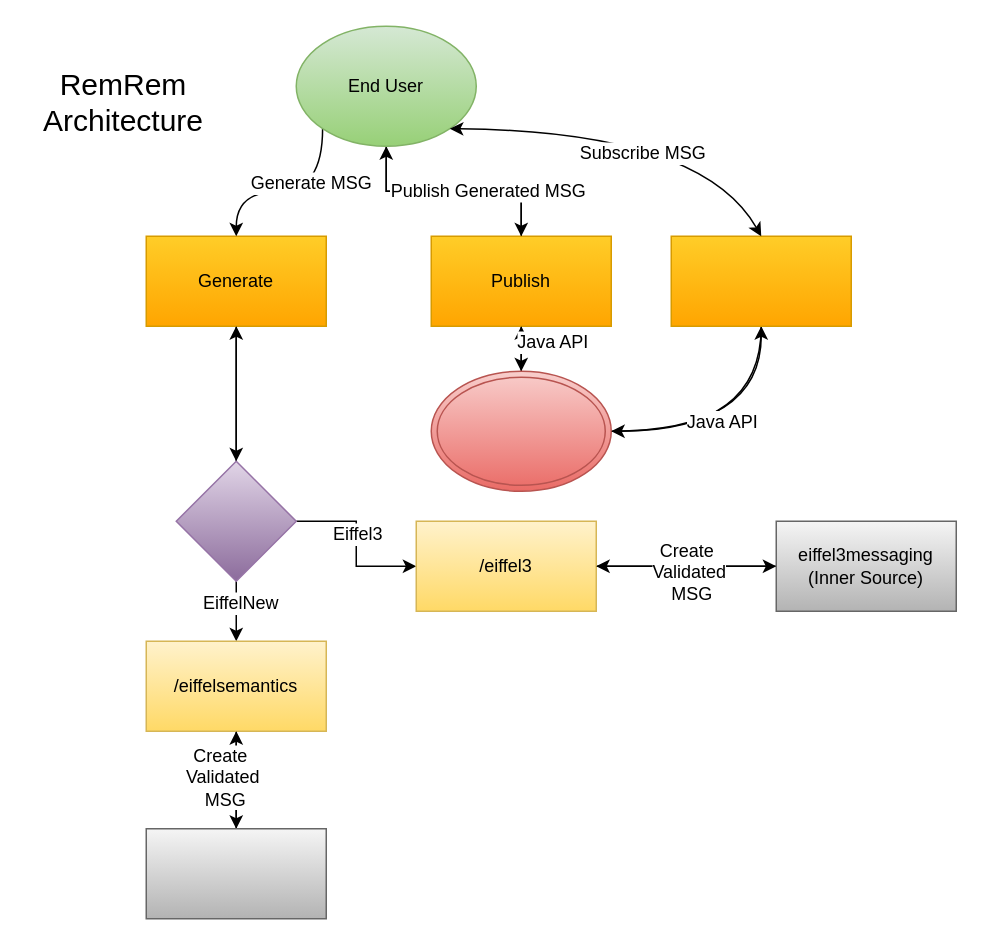
Some shapes in this 983 by 945 pixel diagram are drawn without their labels. The shapes that lost their labels are listed below. From the top down, each one's centre as x and y in pixels, then its label:
At pixel 760 280: "Subscribe".
At pixel 520 430: "RabbitMQ".
At pixel 235 873: "remrem-semantics (Open Source)".
